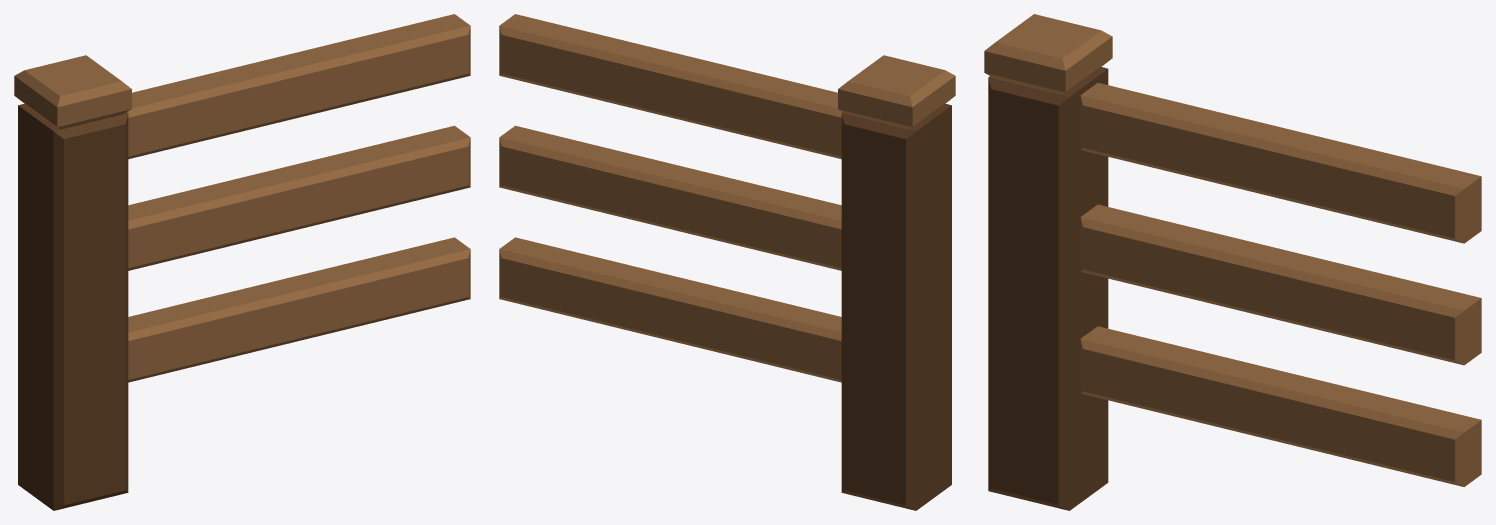
File: Fence_10.glb
3 renders of one model, left to right at view 1: azimuth 30°, elevation 25°; view 2: azimuth 150°, elevation 25°; view 3: azimuth 330°, elevation 25°, orthographic. The views are drawn at different scales.
Parts seen in each view (by area): view 1: Fence_10; view 2: Fence_10; view 3: Fence_10.
Boxes of the visible parts, x1,y1,x2,y2 form: Fence_10: (14,14,470,510); Fence_10: (499,14,955,510); Fence_10: (984,14,1481,510).
Bounding box in the file's own units: 4 × 3.7 × 0.6988.
